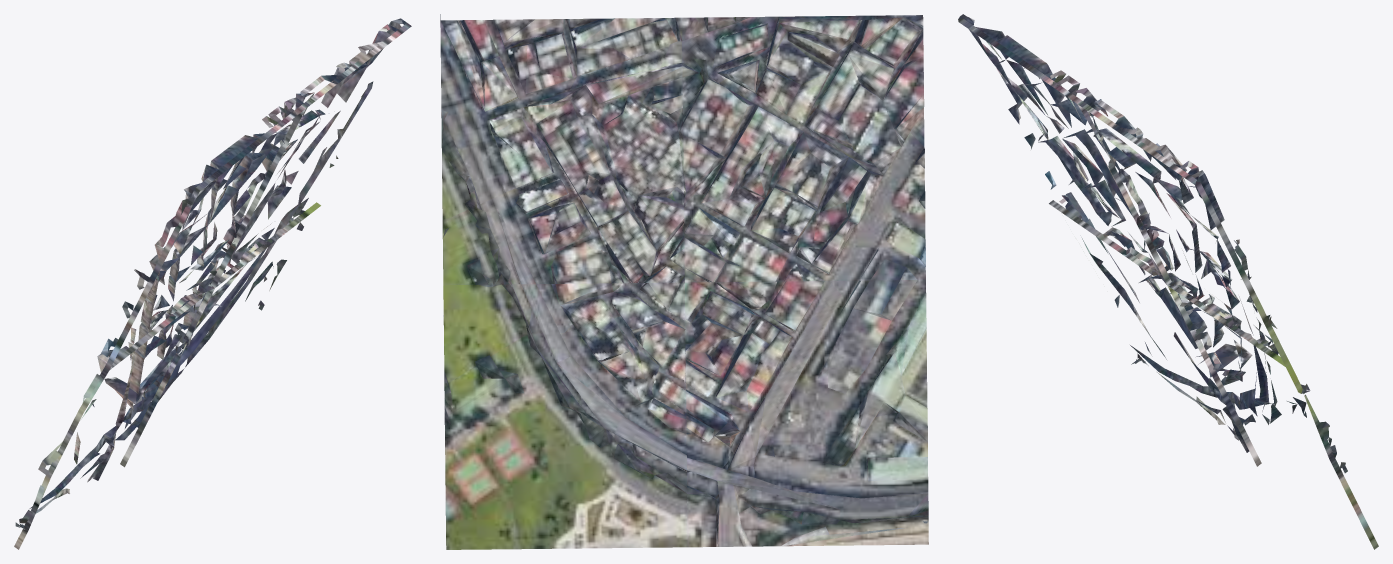
3 views of the same model, side by side, from view 1: azimuth 30°, elevation 25°; view 2: azimuth 150°, elevation 25°; view 3: azimuth 270°, elevation 25° (orthographic). The views are drawn at different scales.
Size of the model in its own units: 611 by 567 by 514.
Materials: 2 (2 with a texture image).
